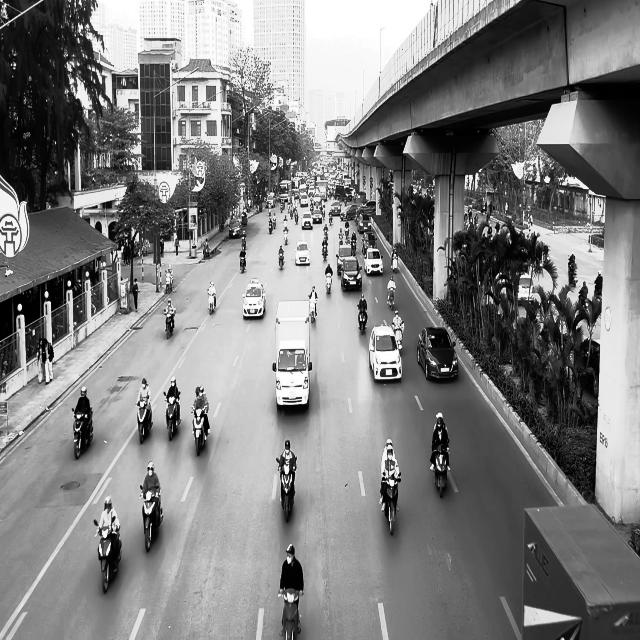car: (416, 326, 458, 381), (368, 323, 402, 383), (242, 278, 266, 319), (340, 256, 362, 292), (364, 248, 383, 276), (294, 241, 310, 264), (228, 219, 241, 238), (301, 212, 313, 230)
motorbike: (93, 519, 122, 593), (139, 484, 163, 552), (276, 454, 297, 523), (380, 474, 401, 535), (278, 588, 302, 640), (71, 406, 94, 459), (190, 403, 209, 456), (432, 442, 449, 498), (164, 390, 182, 440), (136, 398, 153, 443), (163, 309, 175, 339), (358, 303, 368, 335), (308, 294, 318, 323), (568, 262, 577, 287), (208, 292, 216, 314), (165, 271, 173, 293), (386, 287, 394, 309), (240, 250, 247, 273), (325, 272, 332, 294), (202, 241, 210, 259), (321, 240, 328, 260), (278, 249, 284, 269), (283, 227, 289, 245)
truck: (521, 502, 640, 640), (272, 300, 312, 409)
